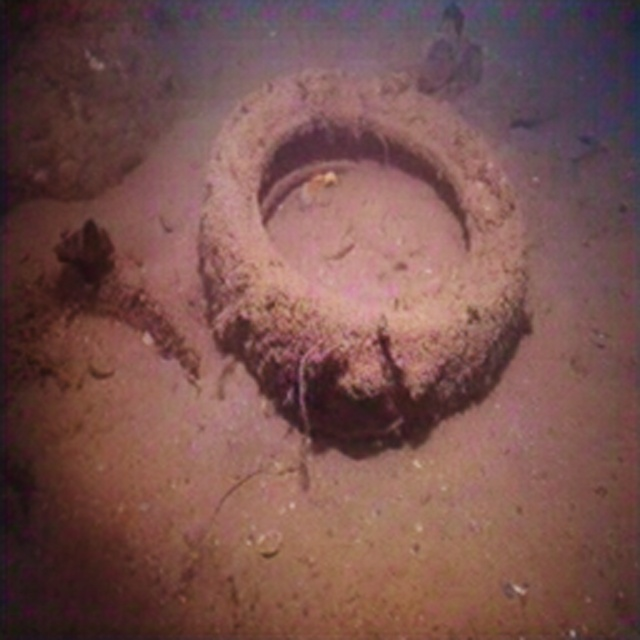mine: (199, 64, 528, 440), (50, 282, 193, 370)
